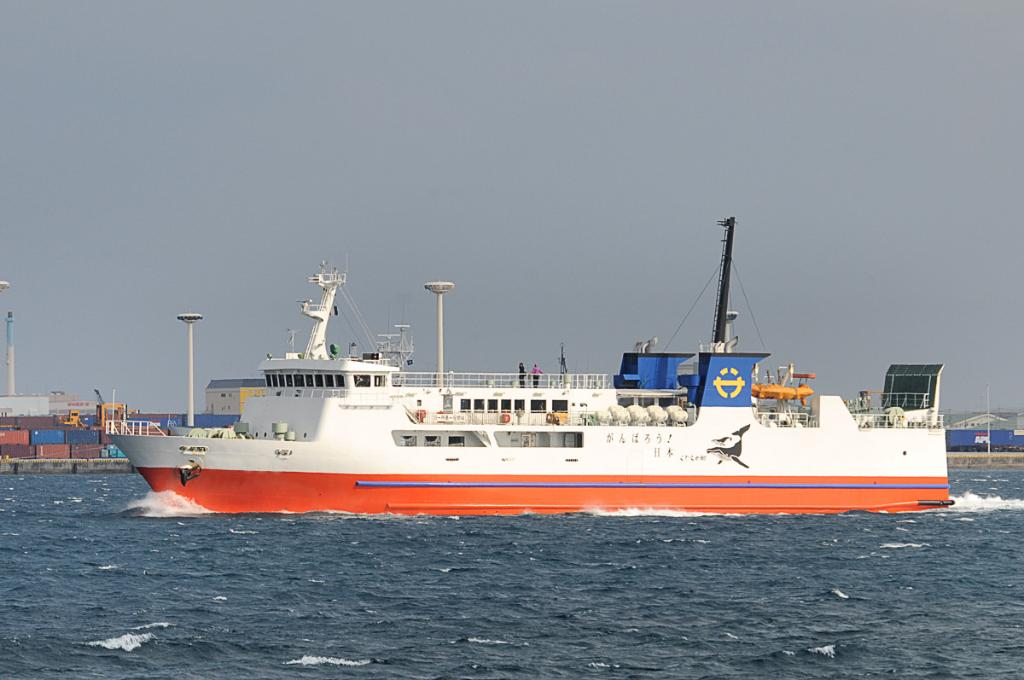PassengerShip: (100, 242, 956, 520)
